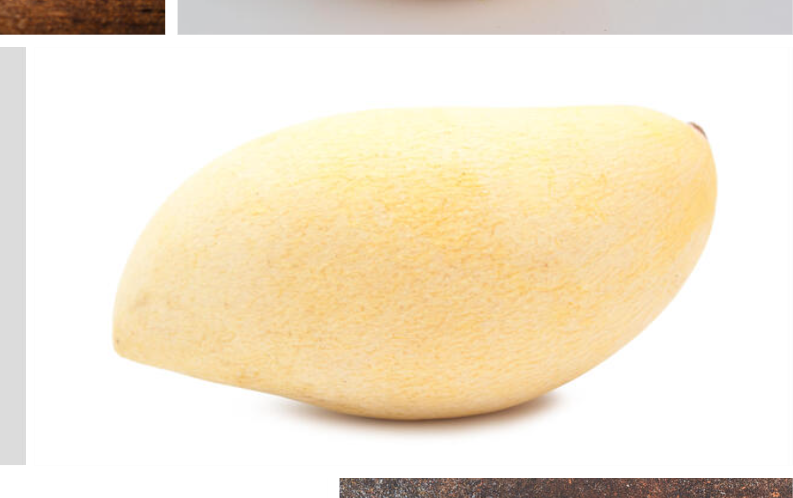mango: (107, 100, 717, 423)
